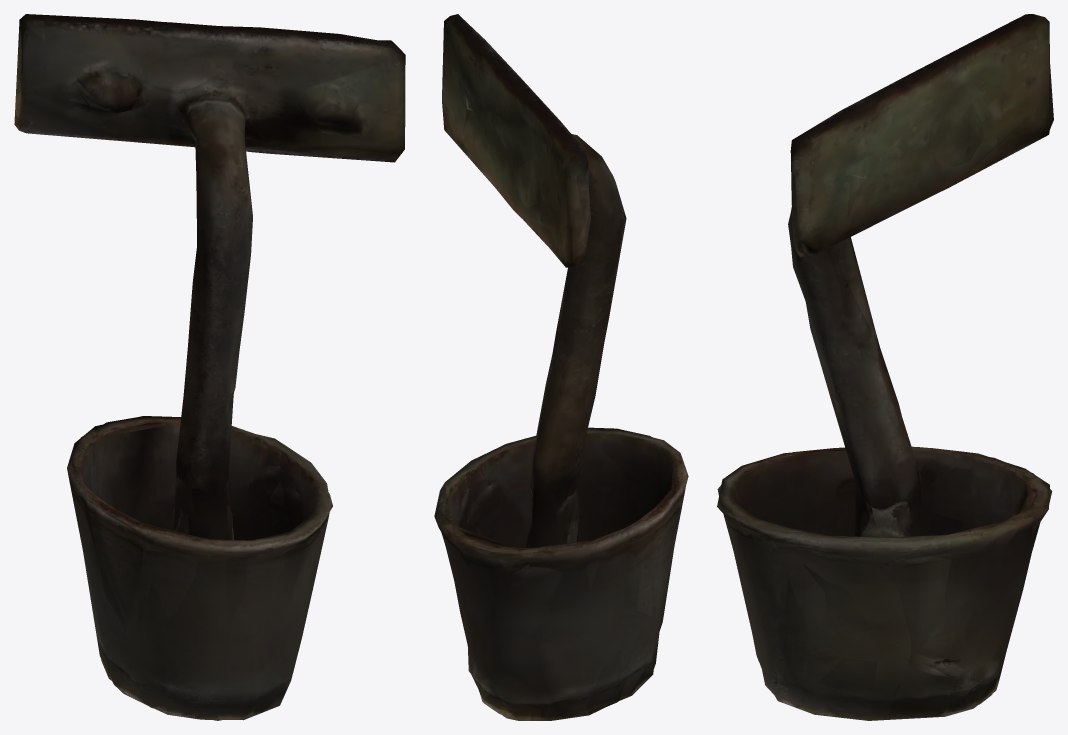
File: torch-sconce.glb
The picture shows the model from 3 angles, left to right: view 1: azimuth 30°, elevation 25°; view 2: azimuth 150°, elevation 25°; view 3: azimuth 270°, elevation 25°; orthographic projection. The views are drawn at different scales.
Visible parts, largest first — view 1: torch-sconce; view 2: torch-sconce; view 3: torch-sconce.
Boxes of the visible parts, x1,y1,x2,y2 form: torch-sconce: [14, 14, 405, 720]; torch-sconce: [434, 14, 688, 720]; torch-sconce: [717, 14, 1053, 720].
Size of the model in its own units: 0.1972 by 0.4485 by 0.2169.
Materials: 1 (1 with a texture image).
